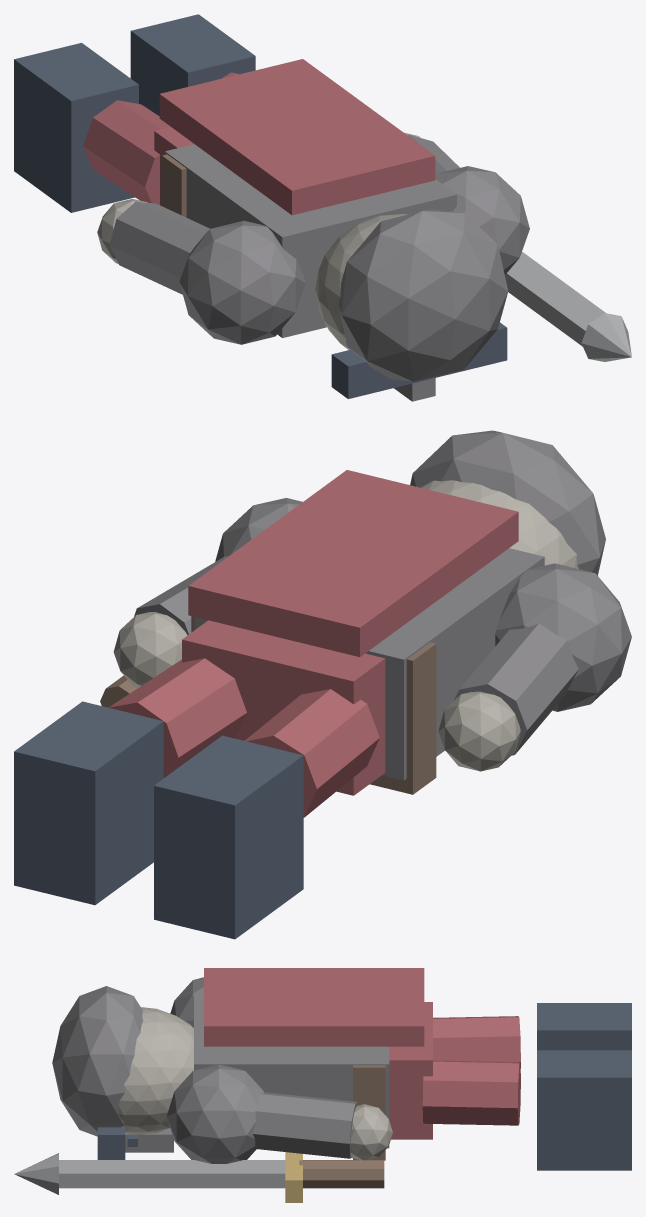
Rendered from 02_forgotten_soldier.glb.
3 renders of one model, top to bottom at view 1: azimuth 30°, elevation 25°; view 2: azimuth 150°, elevation 25°; view 3: azimuth 270°, elevation 25°, orthographic. The views are drawn at different scales.
Parts seen in each view (by area): view 1: tattered_cloak, helmet, boot-1, torso, shoulder-1, boot1, upper_leg-1, arm-1, shoulder1, sword_blade, helmet_rim, head (+6 smaller); view 2: tattered_cloak, boot-1, boot1, hips, torso, helmet, shoulder-1, upper_leg-1, upper_leg1, arm-1, hand-1, belt (+4 smaller); view 3: tattered_cloak, boot1, helmet, torso, shoulder1, head, sword_blade, upper_leg1, arm1, boot-1, hips, upper_leg-1 (+8 smaller).
Boxes of the visible parts, x1=… form: tattered_cloak: x1=159, y1=59, x2=435, y2=215; helmet: x1=338, y1=209, x2=508, y2=381; boot-1: x1=14, y1=42, x2=138, y2=212; torso: x1=165, y1=144, x2=456, y2=337; shoulder-1: x1=179, y1=220, x2=305, y2=344; boot1: x1=130, y1=14, x2=255, y2=115; upper_leg-1: x1=83, y1=100, x2=170, y2=204; arm-1: x1=109, y1=201, x2=209, y2=294; shoulder1: x1=435, y1=166, x2=529, y2=274; sword_blade: x1=505, y1=251, x2=605, y2=346; helmet_rim: x1=331, y1=322, x2=507, y2=398; head: x1=315, y1=213, x2=407, y2=349; tattered_cloak: x1=188, y1=470, x2=518, y2=656; boot-1: x1=154, y1=735, x2=303, y2=939; boot1: x1=14, y1=701, x2=163, y2=905; hips: x1=182, y1=620, x2=385, y2=795; torso: x1=194, y1=548, x2=544, y2=780; helmet: x1=410, y1=430, x2=605, y2=575; shoulder-1: x1=495, y1=563, x2=631, y2=711; upper_leg-1: x1=245, y1=689, x2=379, y2=817; upper_leg1: x1=108, y1=658, x2=246, y2=777; arm-1: x1=453, y1=623, x2=578, y2=755; hand-1: x1=438, y1=691, x2=520, y2=771; belt: x1=191, y1=616, x2=436, y2=794; tattered_cloak: x1=204, y1=968, x2=424, y2=1046; boot1: x1=537, y1=1050, x2=631, y2=1170; helmet: x1=52, y1=986, x2=143, y2=1136; torso: x1=194, y1=993, x2=389, y2=1148; shoulder1: x1=166, y1=1065, x2=264, y2=1163; head: x1=118, y1=1007, x2=193, y2=1134; sword_blade: x1=59, y1=1160, x2=285, y2=1188; upper_leg1: x1=422, y1=1060, x2=520, y2=1125; arm1: x1=252, y1=1092, x2=358, y2=1158; boot-1: x1=537, y1=1003, x2=631, y2=1050; hips: x1=389, y1=1002, x2=432, y2=1139; upper_leg-1: x1=433, y1=1016, x2=520, y2=1068.
Size of the model in its own units: 1.39 by 0.685 by 2.47.
